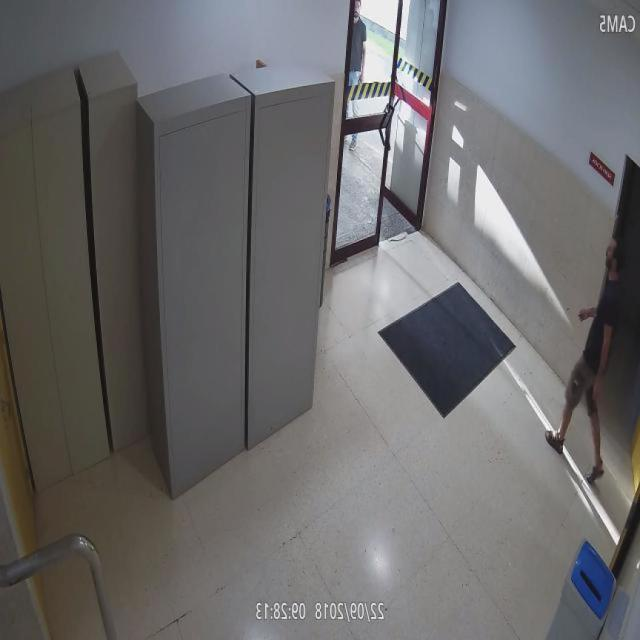pistol: (586, 376, 603, 420)
